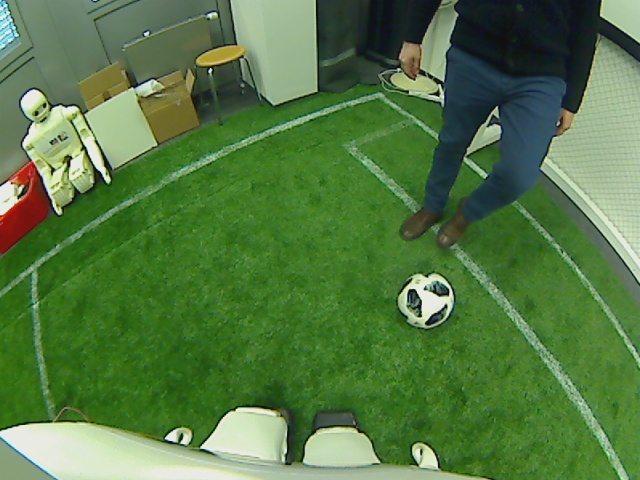ball: (395, 270, 455, 330)
